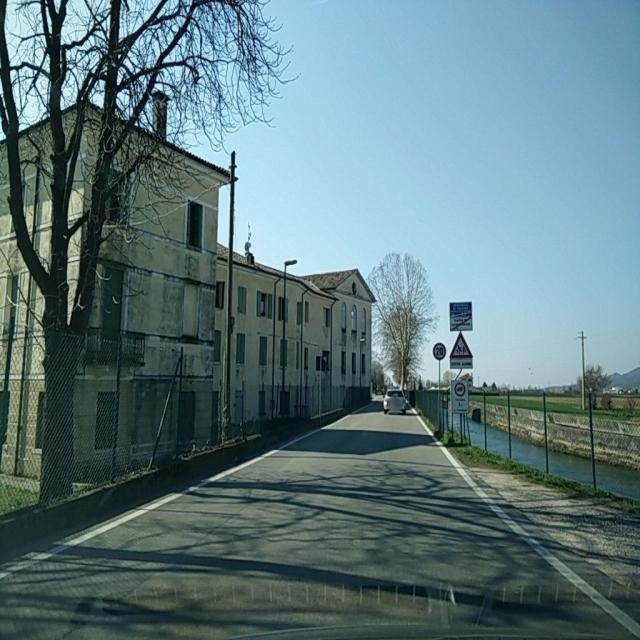car: (383, 388, 407, 415)
